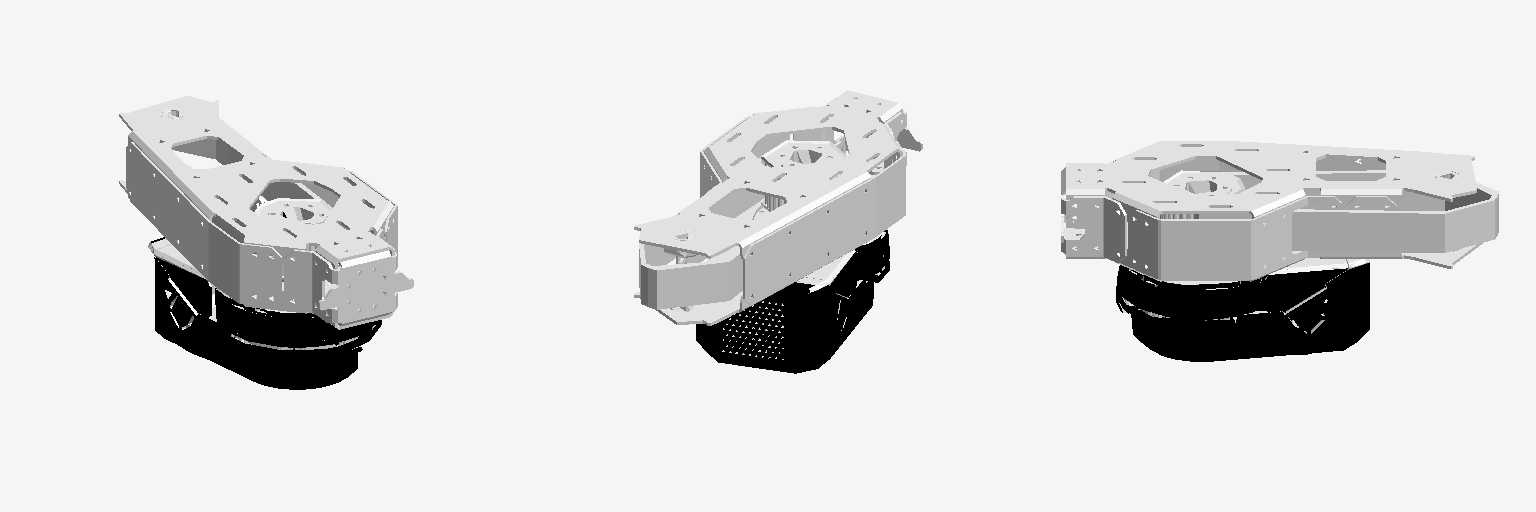
The picture shows the model from 3 angles: view 1: azimuth 30°, elevation 25°; view 2: azimuth 150°, elevation 25°; view 3: azimuth 270°, elevation 25°; orthographic projection.
Visible parts, largest first — view 1: r_shoulder_ie_link; view 2: r_shoulder_ie_link; view 3: r_shoulder_ie_link.
Boxes of the visible parts, x1=… form: r_shoulder_ie_link: x1=119, y1=96, x2=413, y2=389; r_shoulder_ie_link: x1=634, y1=90, x2=922, y2=373; r_shoulder_ie_link: x1=1061, y1=141, x2=1498, y2=361.
Size of the model in its own units: 0.109 by 0.103 by 0.2528.
1 materials, 1 textured.